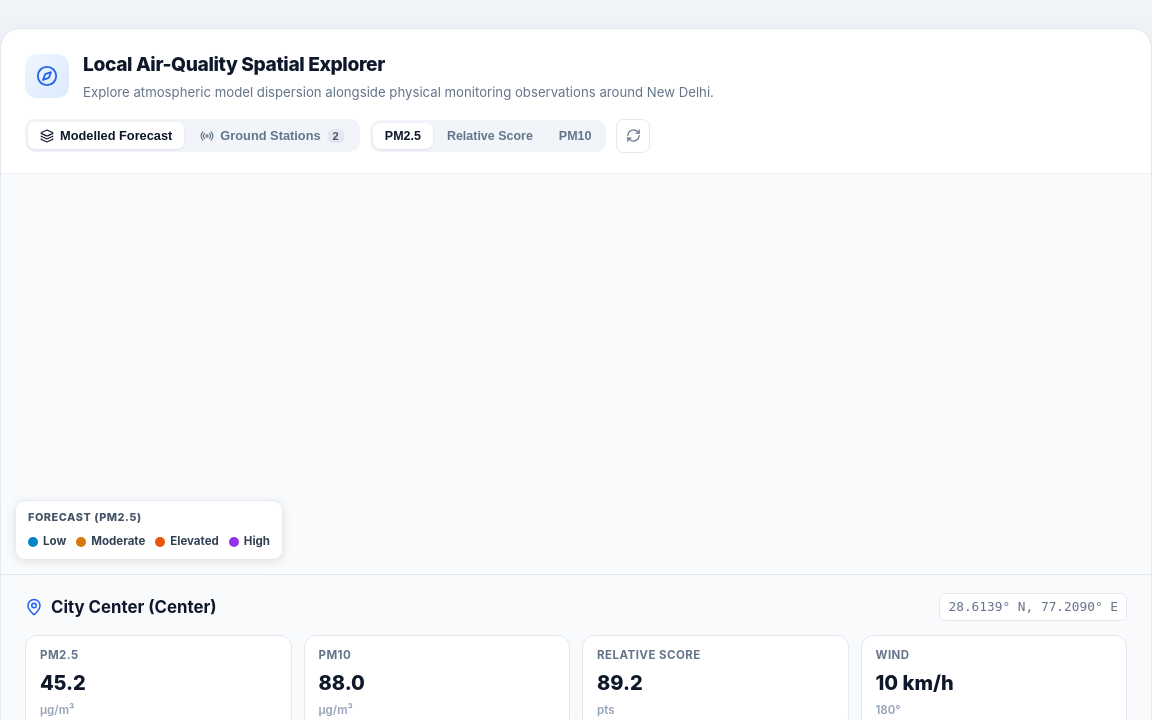
Test: AirQualityMap › allows switching metric between PM2.5, Relative Score, and PM10 in forecast mode
What coordinates should you click on to do the following:
click the button "Relative Score"
I would click on:
 (490, 136)
Its box is x1=435 y1=123 x2=545 y2=149.
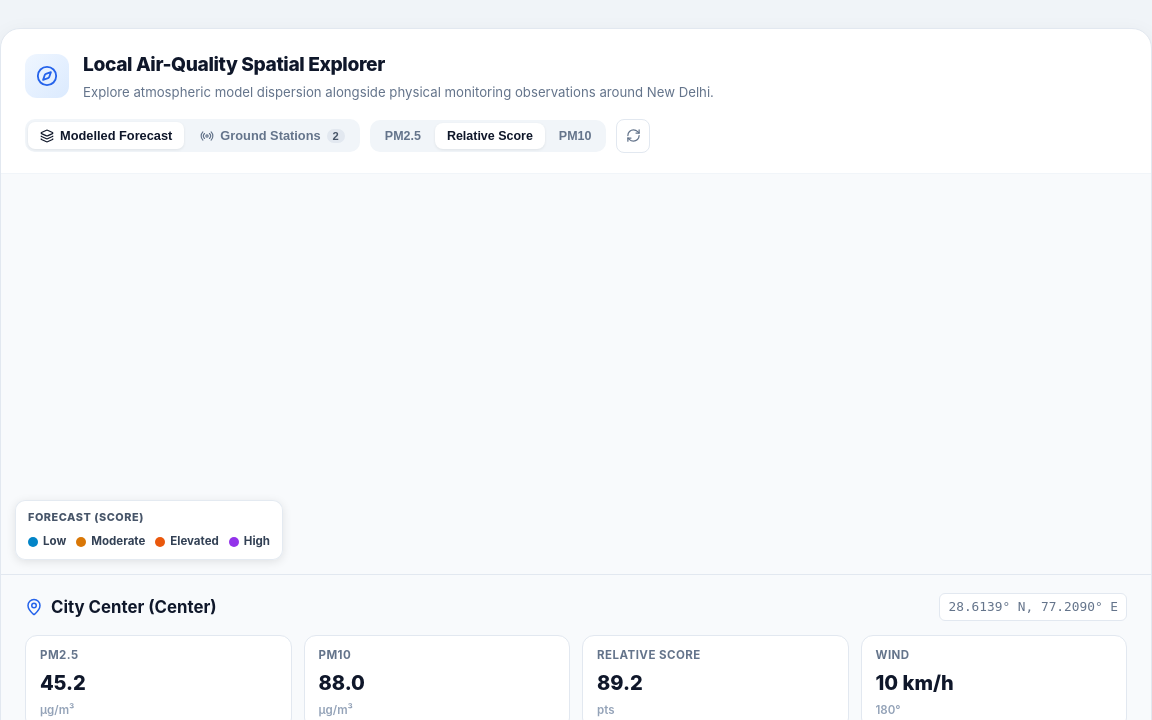
Now the text "Forecast (Score)" is shown, box x1=28 y1=510 x2=144 y2=524
